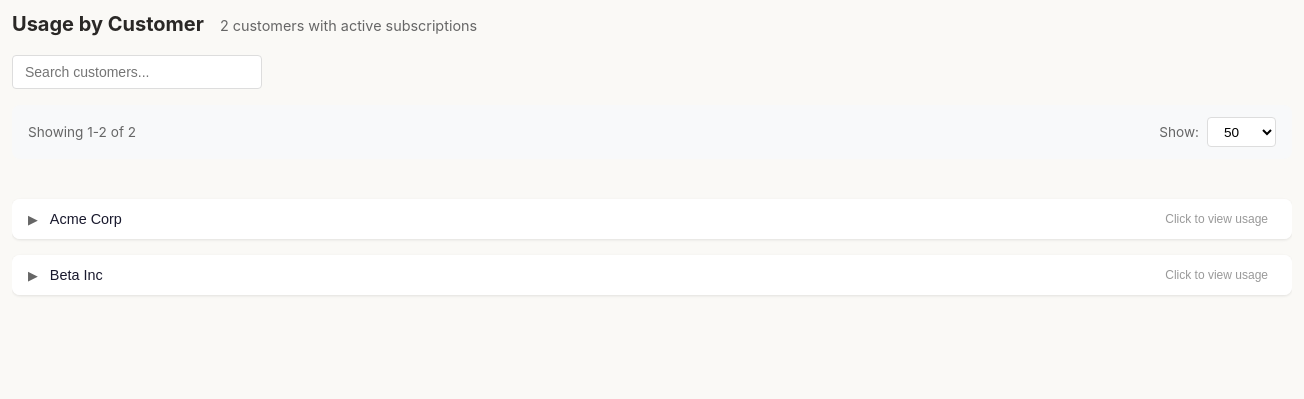
Scenario: CustomerUsageView › Accessibility › should have no accessibility violations with expanded customer
Expected: the text "Acme Corp" is shown, [50, 211, 122, 227]
# Expand a customer
Click the button "▶ Acme Corp Click to view usage" at {"x": 86, "y": 219}, box [12, 199, 1292, 239]
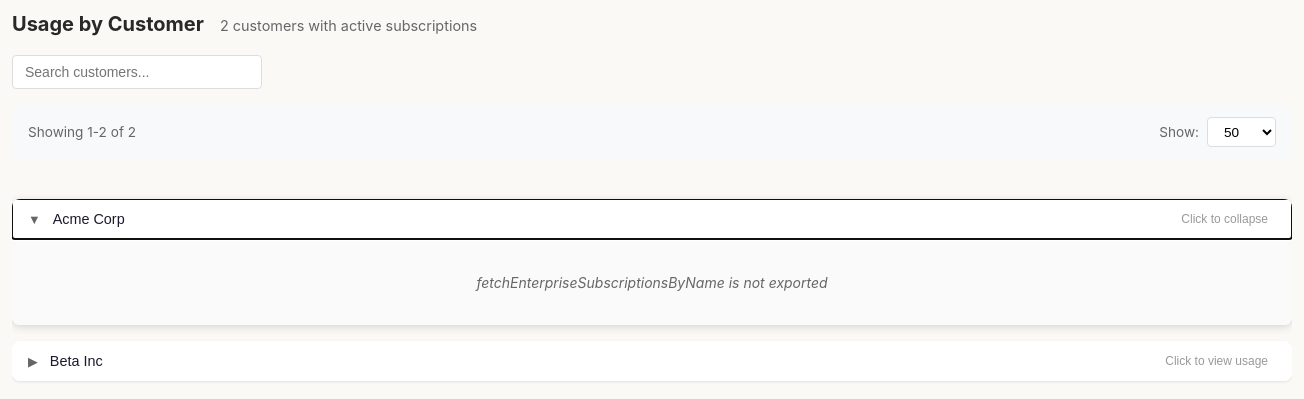
Expected: the button "▼ Acme Corp Click to collapse" is expanded, [12, 199, 1292, 239]
Expected: the element with class "usage-customer-content" is shown, [12, 239, 1292, 325]
